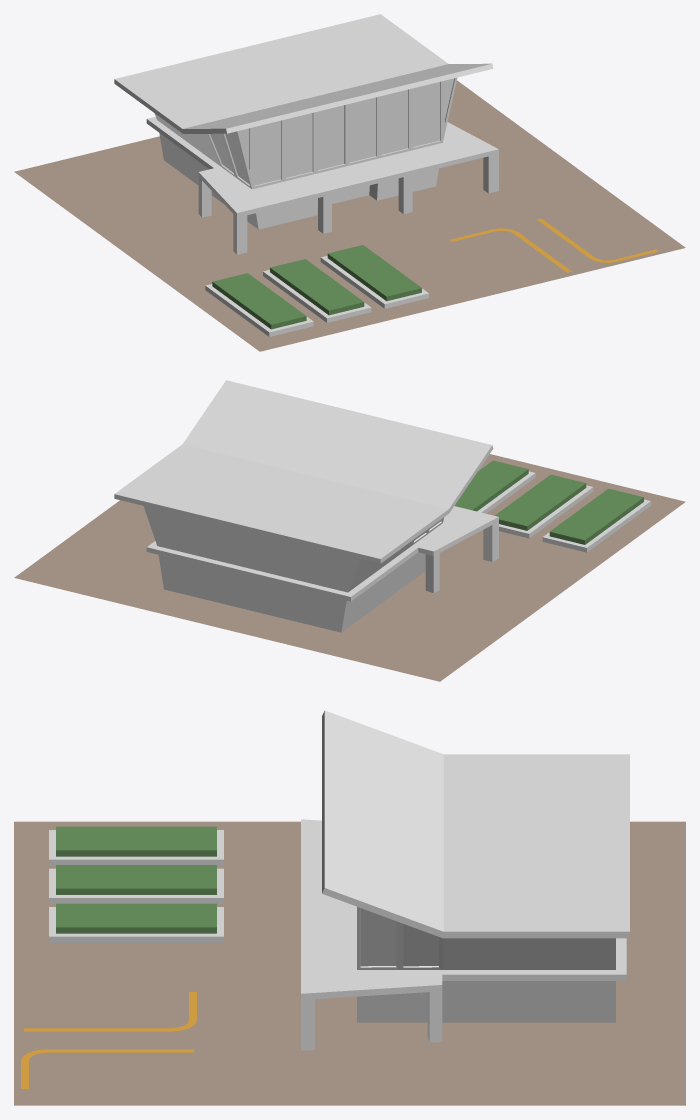
The model's file is tile_poi_expo_6x6_d.fbx.
3 renders of one model, top to bottom at view 1: azimuth 30°, elevation 25°; view 2: azimuth 150°, elevation 25°; view 3: azimuth 270°, elevation 25°, orthographic. The views are drawn at different scales.
Visible parts, largest first — view 1: tile_poi_expo_6x6_d; view 2: tile_poi_expo_6x6_d; view 3: tile_poi_expo_6x6_d.
Part boxes in pixels (x1,y1,x2,y2): tile_poi_expo_6x6_d: (14, 14, 685, 351); tile_poi_expo_6x6_d: (14, 380, 685, 681); tile_poi_expo_6x6_d: (14, 710, 685, 1105).
Size of the model in its own units: 9600 by 2593 by 9600.
